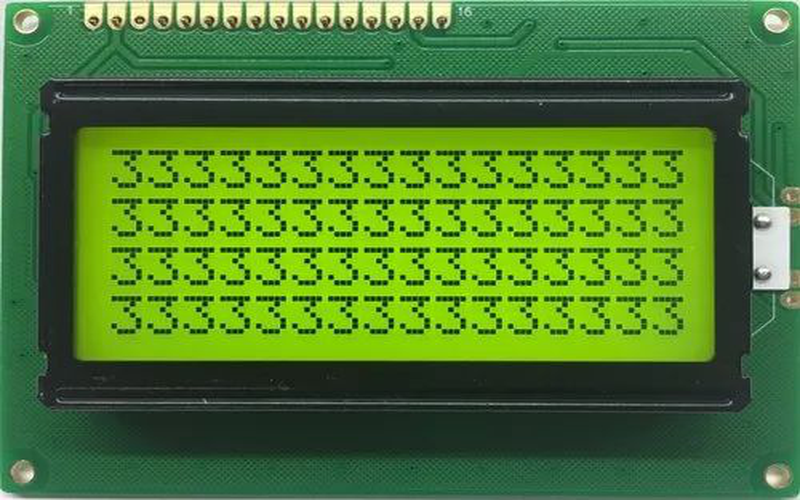LCD: (25, 82, 751, 408)
